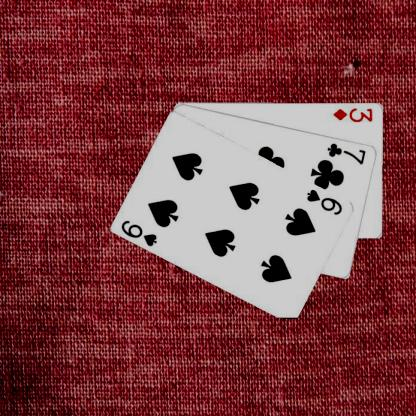3D: (330, 105, 374, 123)
6S: (119, 217, 159, 248), (305, 186, 344, 216)
7C: (325, 140, 367, 166)
